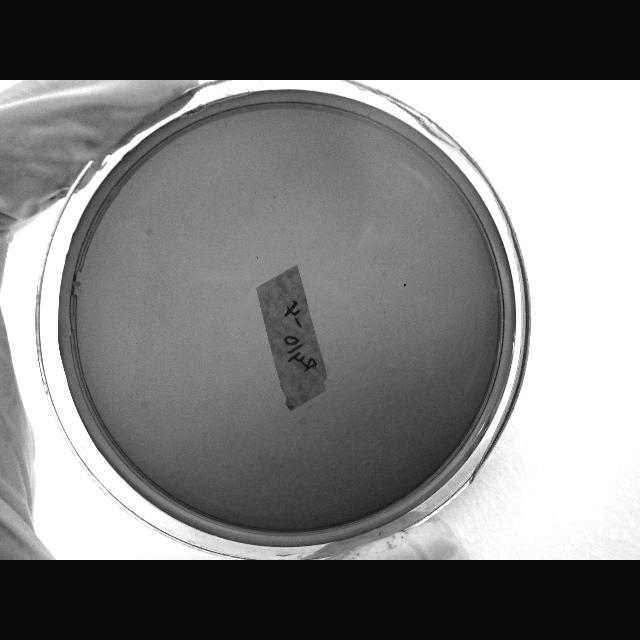colony: (400, 276, 410, 292)
